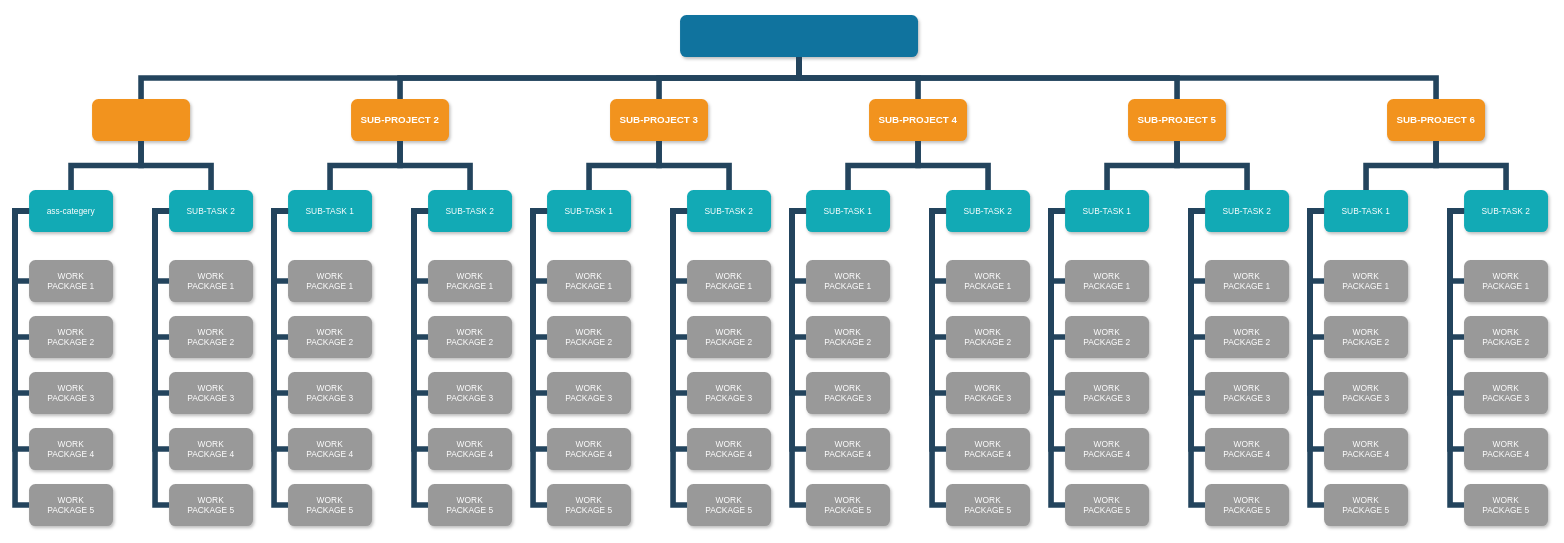
This 1564x543 diagram has some shape labels left out. Here are the shapes that lost their labels. From the top down, the centre of each, then its label:
point (799, 37): GDCAIM
point (141, 121): 分类（category） GB/T 14885-94 ISO 5500X
